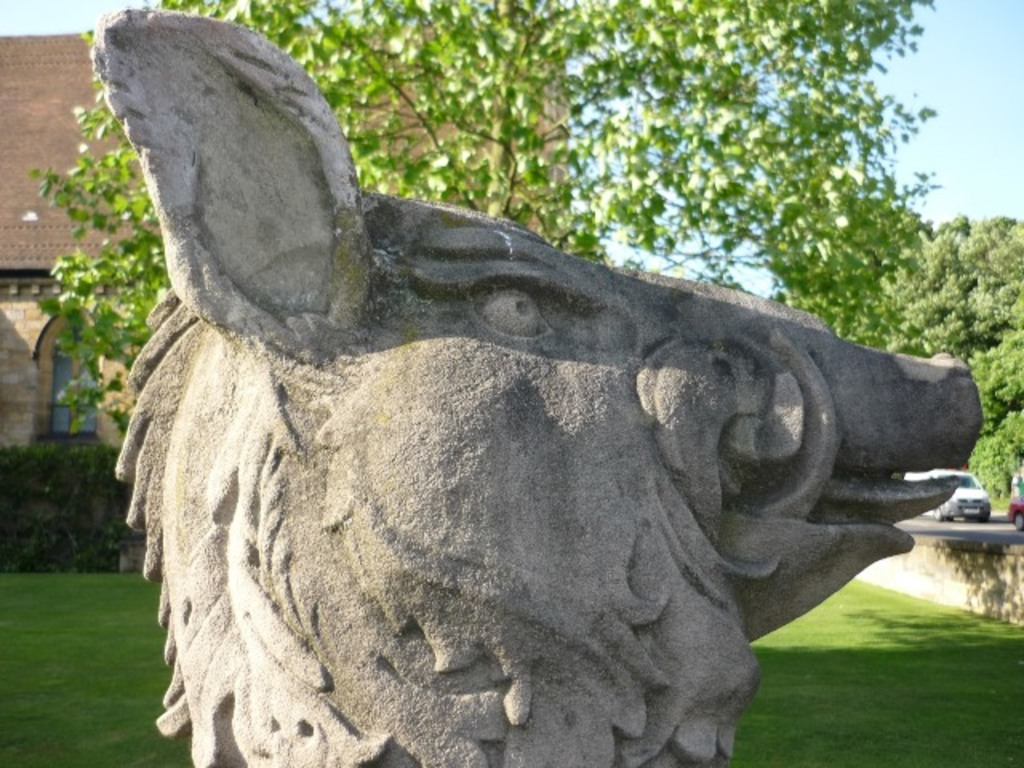Tree: (23, 0, 1024, 500)
